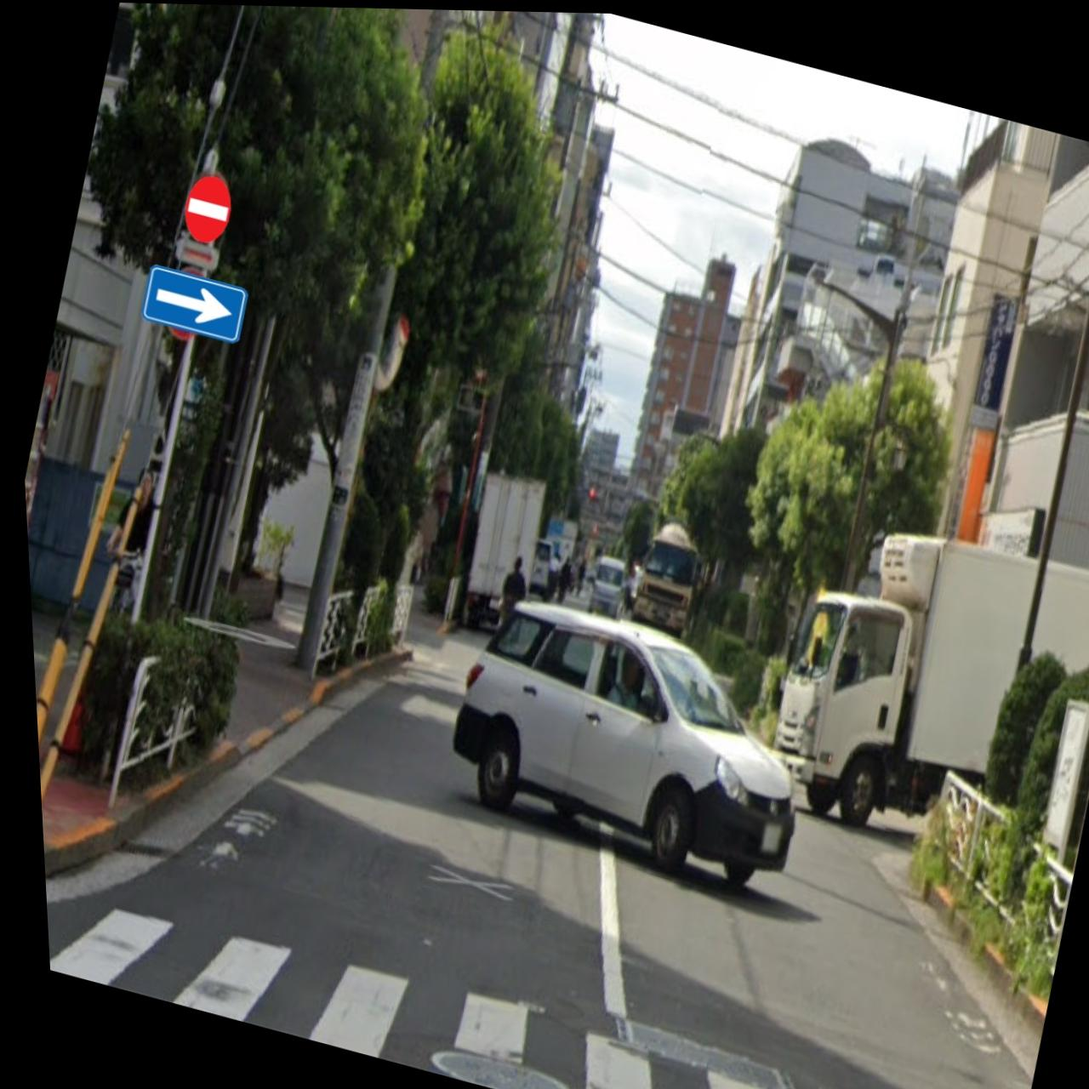barrier: (167, 165, 243, 250)
